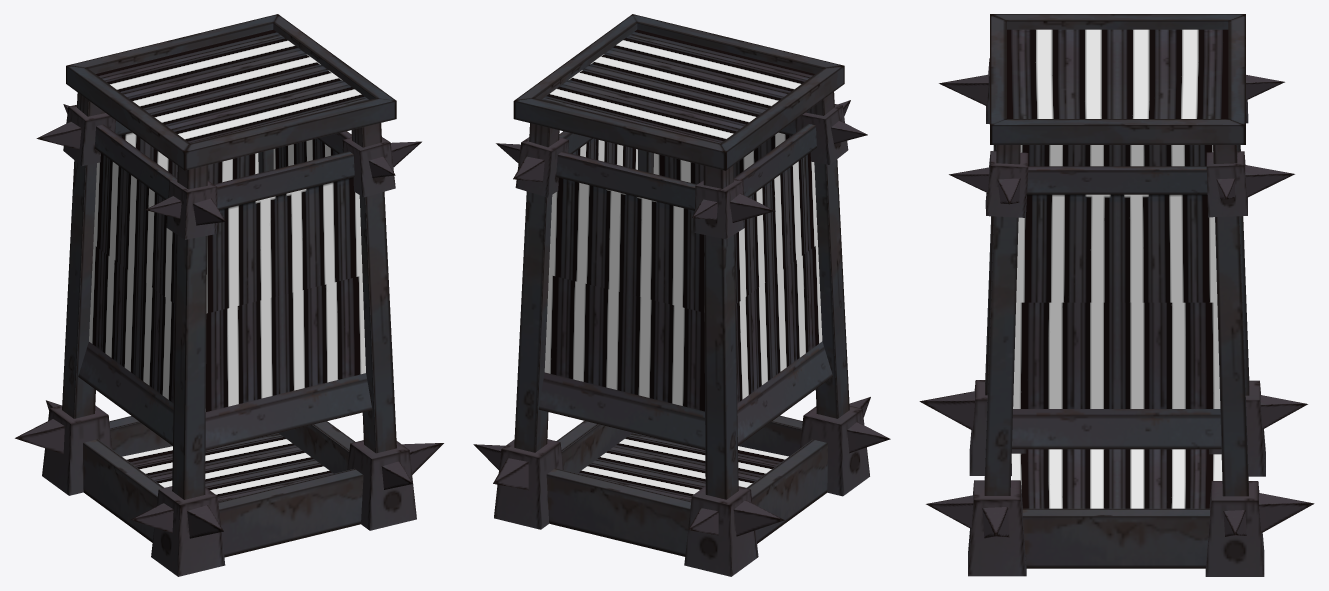
Rendered from 2_DG_LaoLong_01.FBX.
3 views of the same model, side by side, from view 1: azimuth 30°, elevation 25°; view 2: azimuth 150°, elevation 25°; view 3: azimuth 270°, elevation 25° (orthographic). The views are drawn at different scales.
Visible parts, largest first — view 1: 2_DG_LaoLong_01; view 2: 2_DG_LaoLong_01; view 3: 2_DG_LaoLong_01.
Boxes of the visible parts, x1=… form: 2_DG_LaoLong_01: x1=15, y1=14, x2=443, y2=576; 2_DG_LaoLong_01: x1=473, y1=14, x2=890, y2=576; 2_DG_LaoLong_01: x1=919, y1=14, x2=1314, y2=576.
Size of the model in its own units: 408 by 506 by 408.
